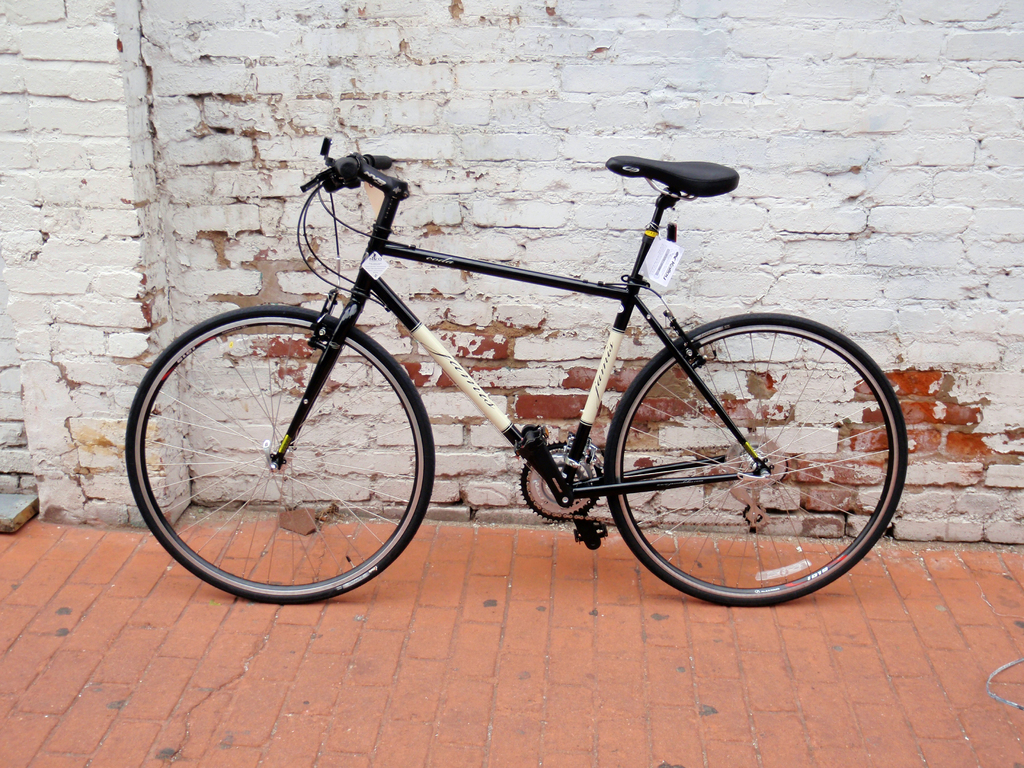Bike: (143, 90, 943, 705)
